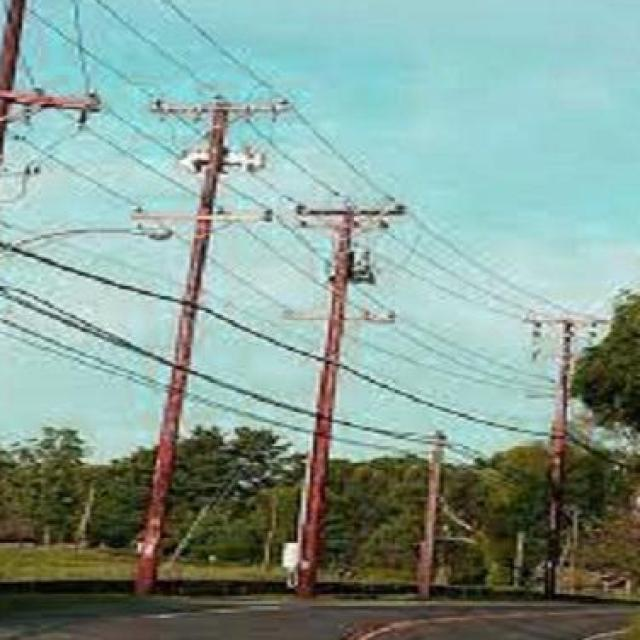non-critical vegetation: (130, 88, 296, 589), (276, 192, 414, 582), (0, 0, 100, 471), (512, 310, 610, 600)
